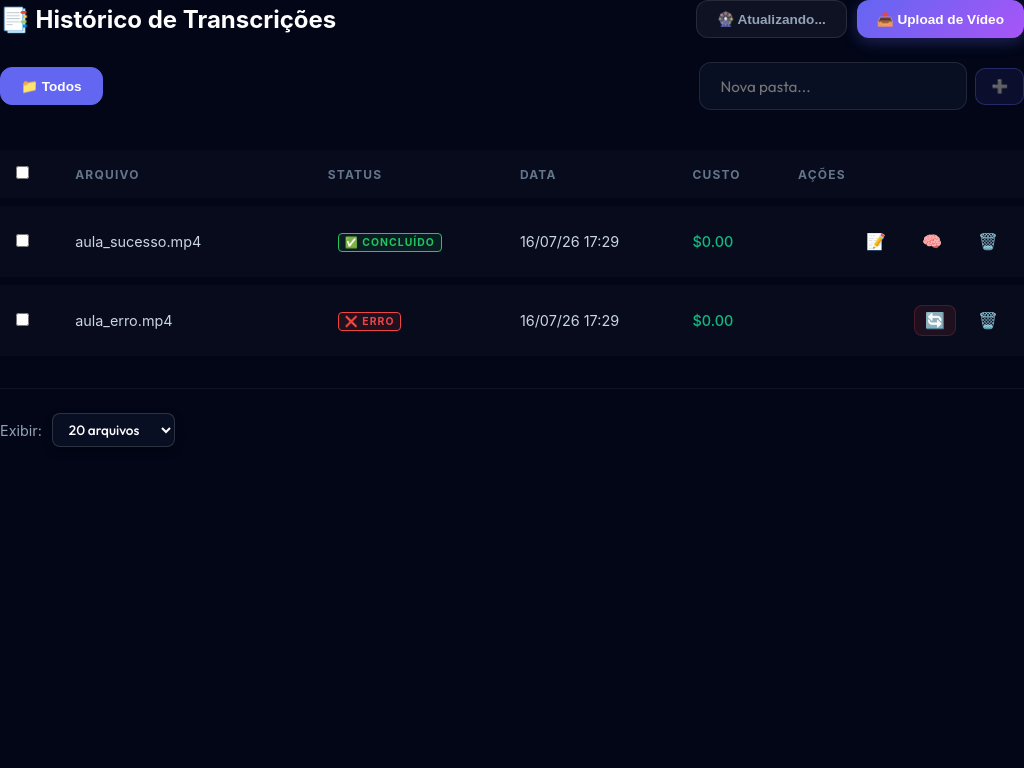
Test: TranscriptionHistory - Paginação e Deleção Premium › deve renderizar o botão 📝 somente para tarefas SUCCESS e abrir o modal de visualização ao clicar
expect the text "aula_sucesso.mp4" is shown: met, box [75, 233, 201, 250]
expect the text "aula_erro.mp4" is shown: met, box [75, 312, 173, 329]
# Clicar no botão 📝 deve abrir o modal
Click the button titled "Visualizar transcrição" at (876, 242), box [856, 226, 896, 257]
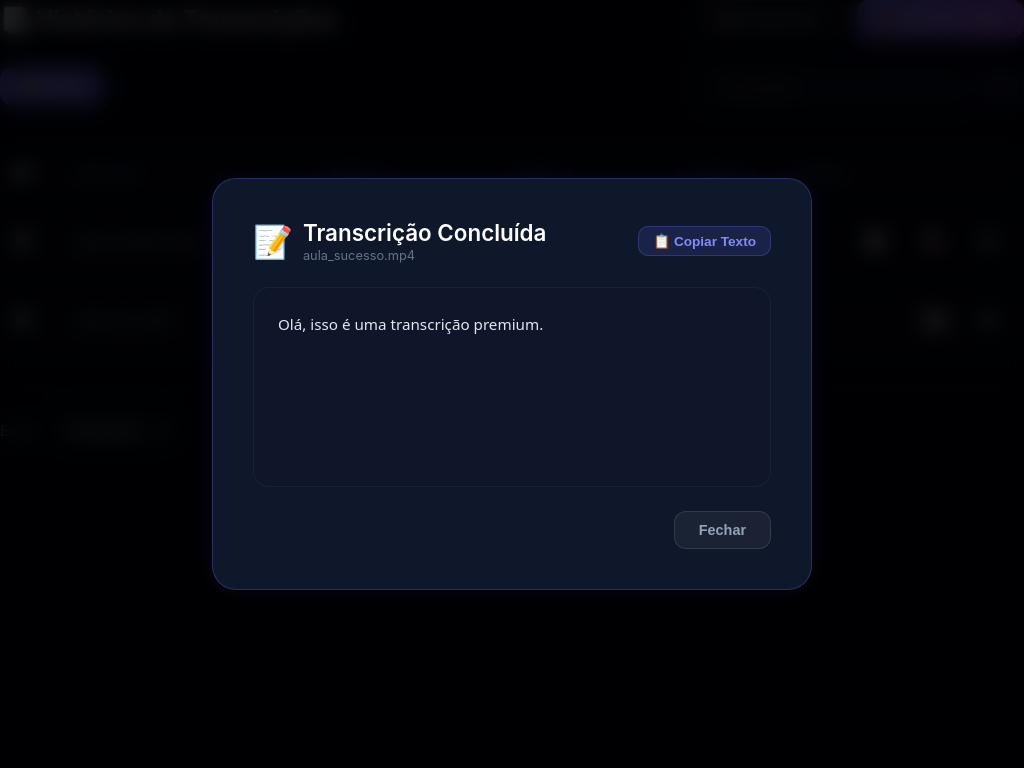
expect the heading "Transcrição Concluída" is shown: met, box [303, 219, 546, 246]
expect the text "Olá, isso é uma transcrição premium." is shown: met, box [253, 287, 771, 487]
